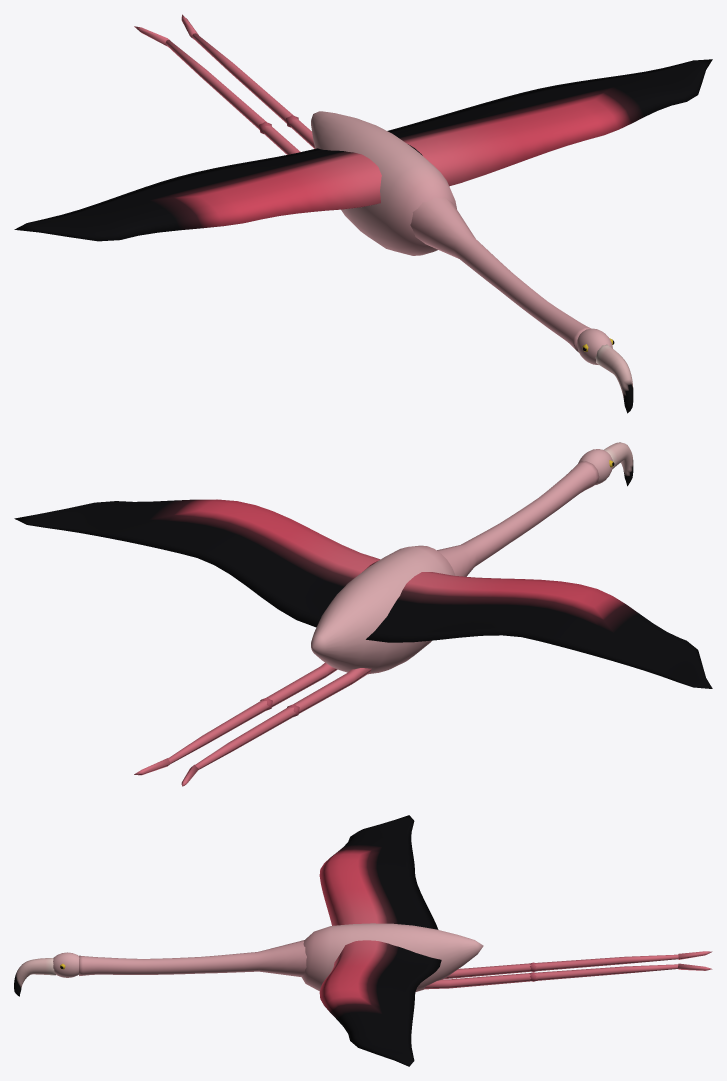
Rendered from GreaterFlamingoFlight.fbx.
3 renders of one model, top to bottom at view 1: azimuth 30°, elevation 25°; view 2: azimuth 150°, elevation 25°; view 3: azimuth 270°, elevation 25°, orthographic. The views are drawn at different scales.
Parts seen in each view (by area): view 1: GreaterFlamingoFlight; view 2: GreaterFlamingoFlight; view 3: GreaterFlamingoFlight.
Part boxes in pixels (x1,y1,x2,y2): GreaterFlamingoFlight: (14,14,712,413); GreaterFlamingoFlight: (14,442,712,786); GreaterFlamingoFlight: (14,815,712,1066).
Bounding box in the file's own units: 1.56 × 0.2116 × 1.83.
